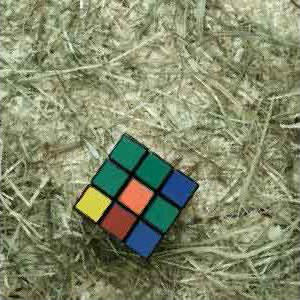rubik: (74, 133, 199, 262)
